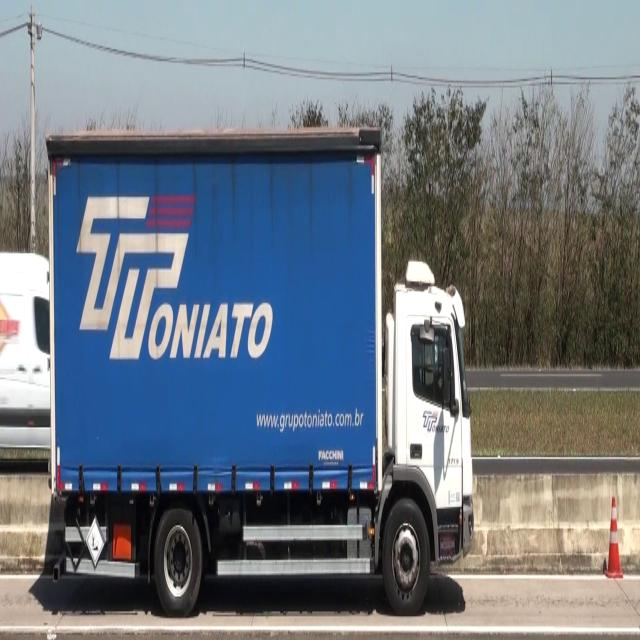-axle: (382, 500, 430, 620), (154, 506, 203, 614)
